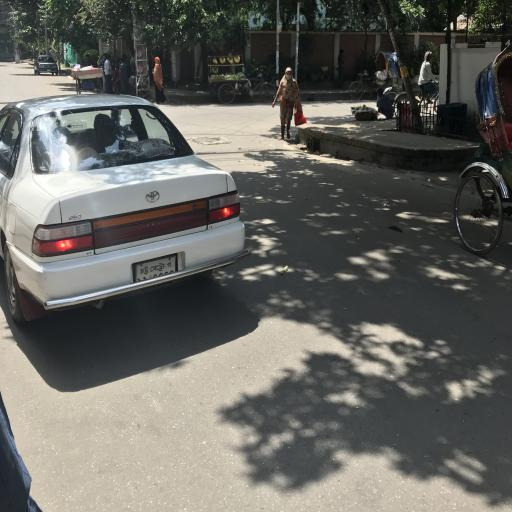car: (6, 100, 256, 323), (35, 55, 61, 75)
rickshaw: (455, 47, 512, 257), (385, 53, 442, 119), (346, 50, 395, 116)
